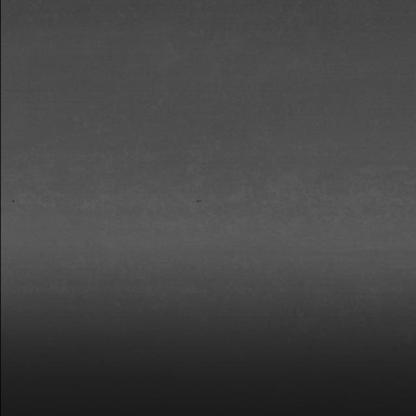inclusion: (186, 196, 212, 209)
